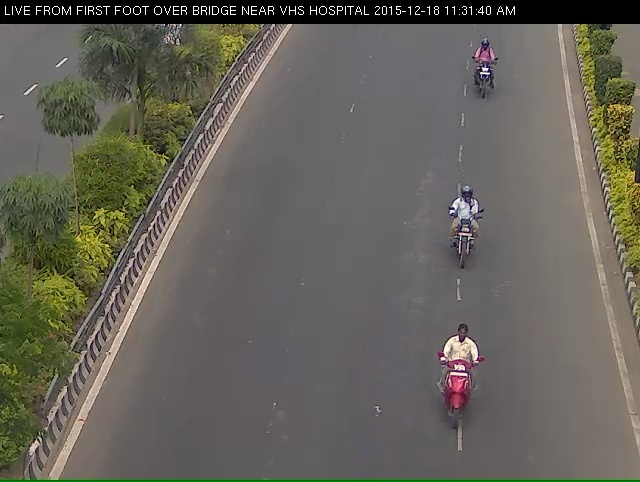Person: (426, 337, 500, 457), (440, 192, 498, 285), (463, 42, 510, 109)
